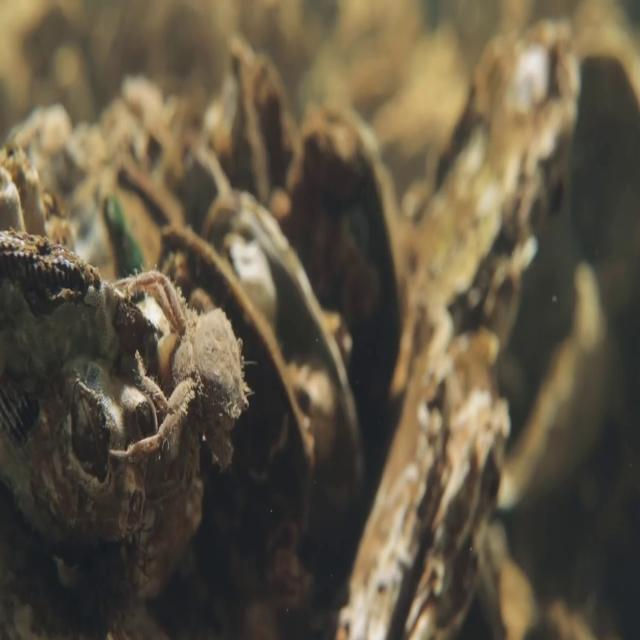Oyster-Indeterminate: (378, 12, 595, 398), (266, 96, 400, 524)
Oyster-Open: (147, 182, 370, 622), (334, 308, 533, 638)
